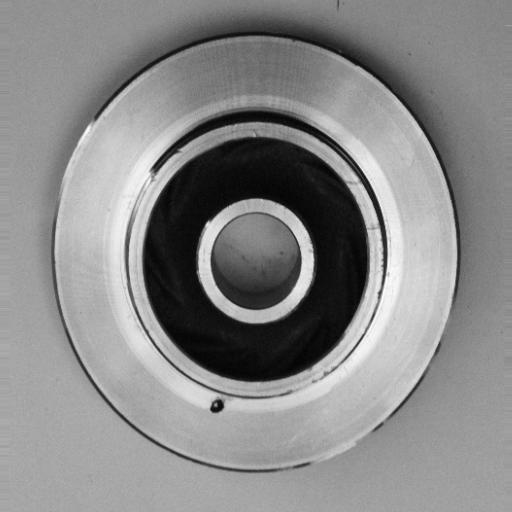pit: (199, 389, 234, 423)
scratch: (289, 423, 390, 483), (123, 150, 158, 264), (267, 365, 348, 402)
unpolished_casting: (47, 33, 464, 478)
